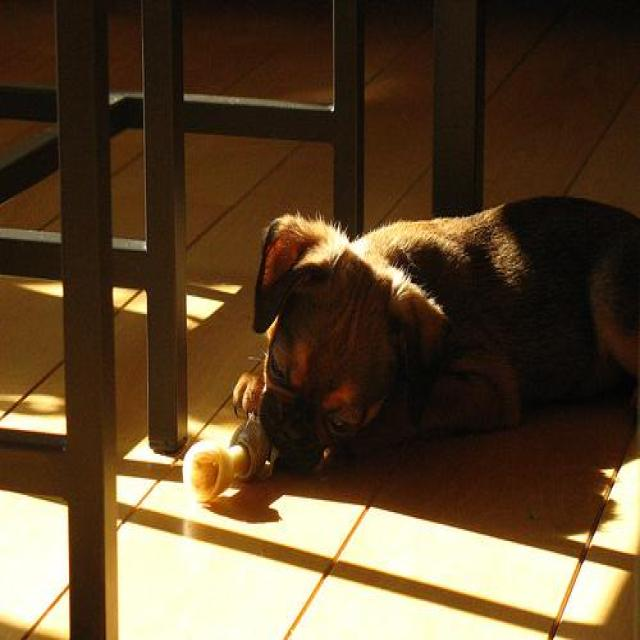Dog: (224, 185, 640, 550)
